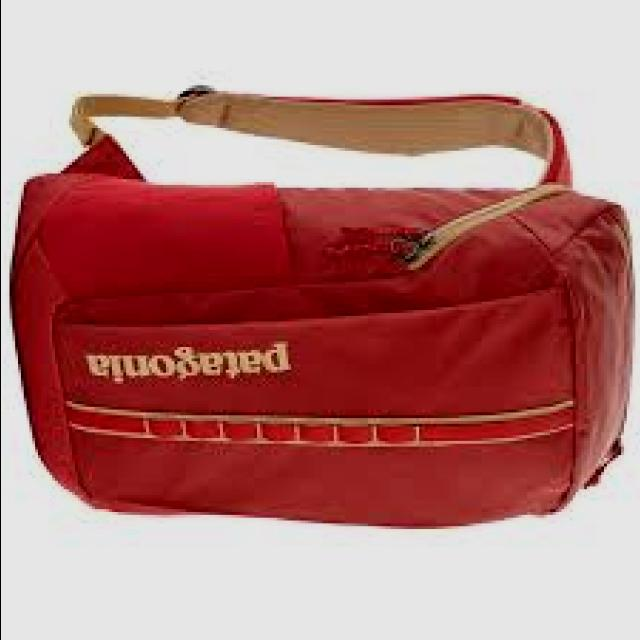backpack: (13, 84, 639, 530)
